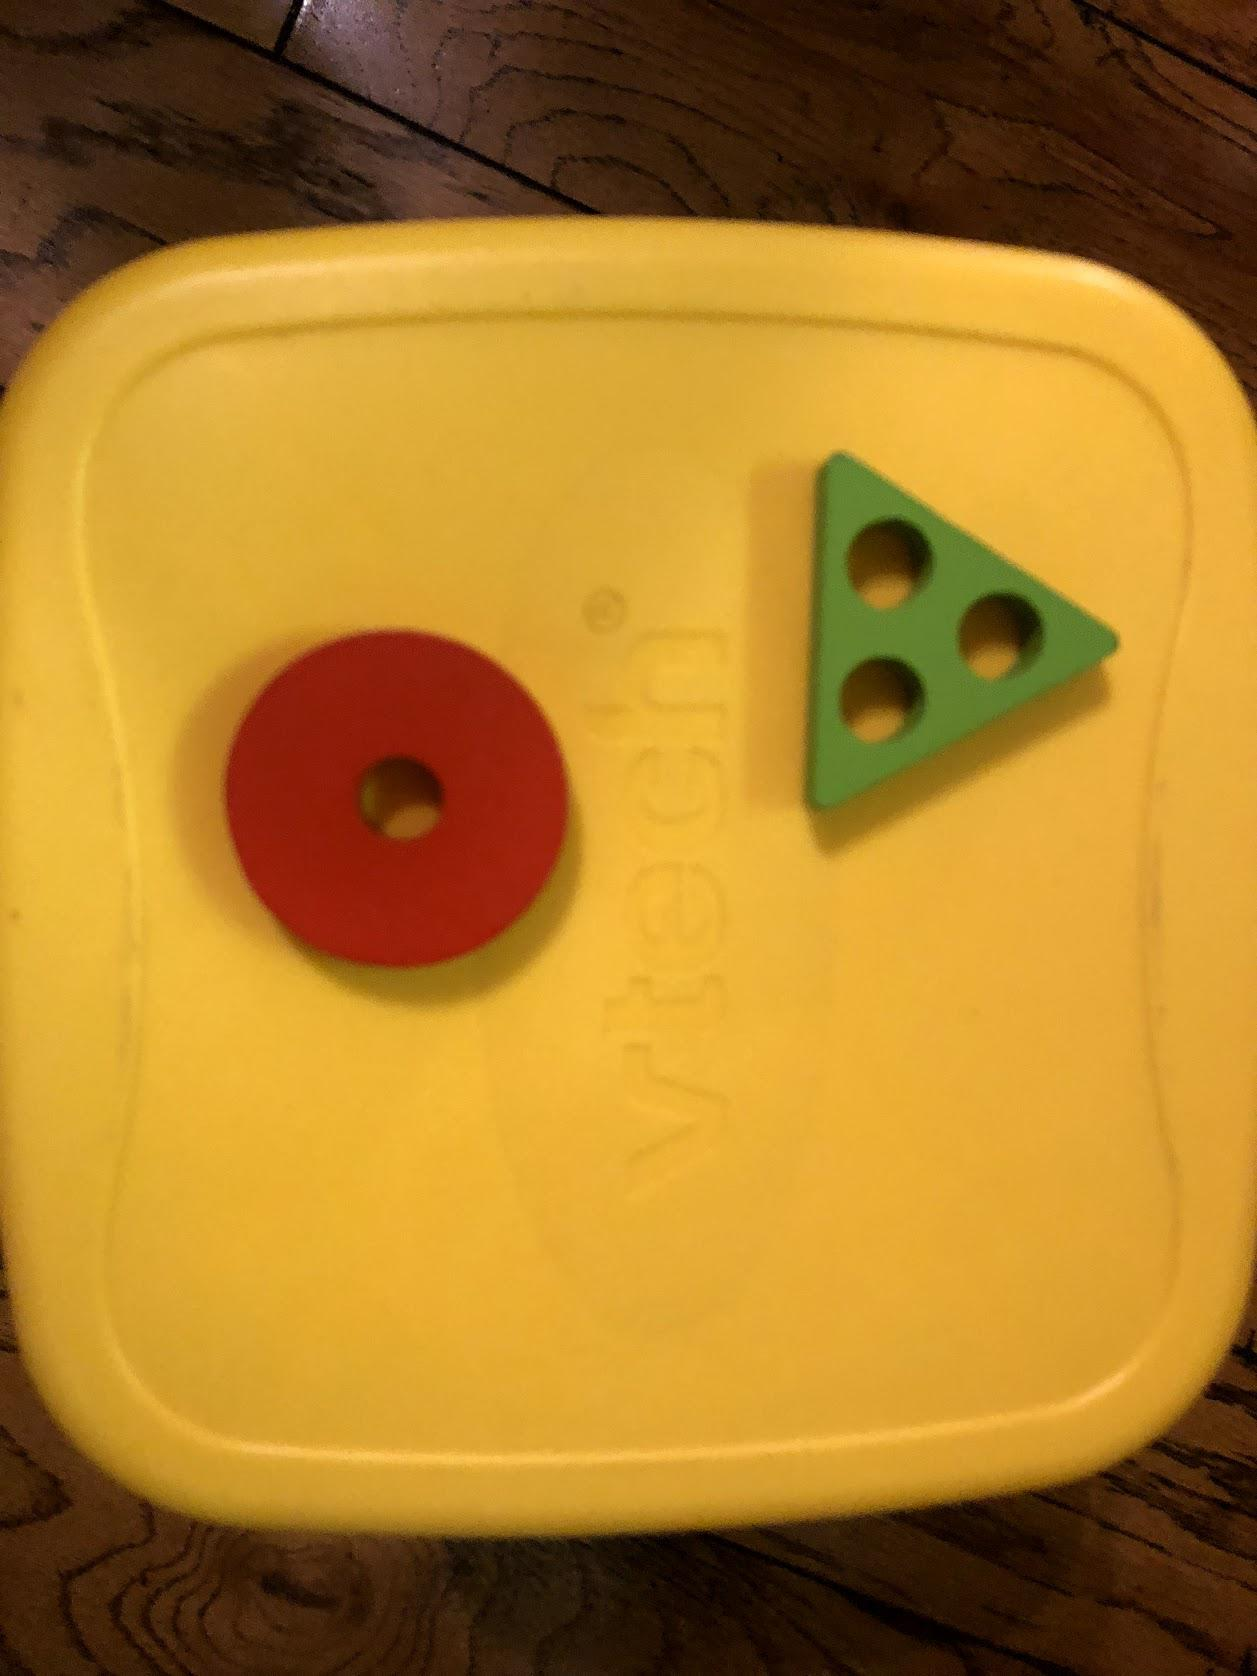Circle: (217, 624, 577, 973)
Triangle: (803, 447, 1121, 835)
